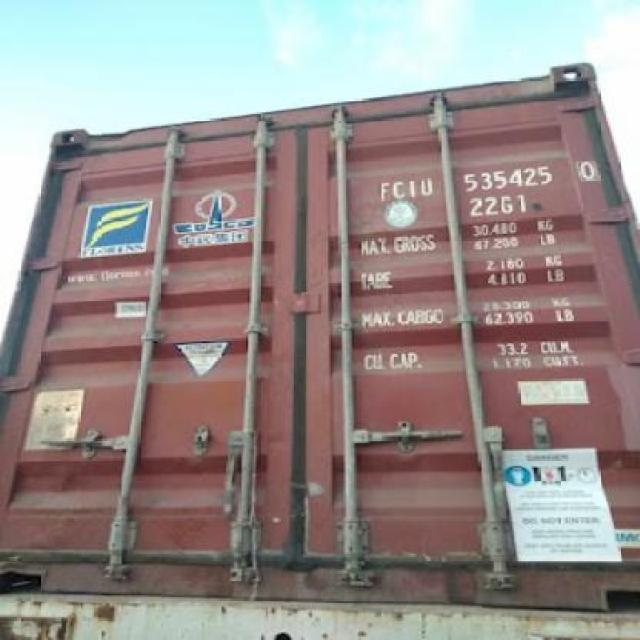ISO: (468, 190, 530, 218)
container_number: (371, 156, 596, 193)
